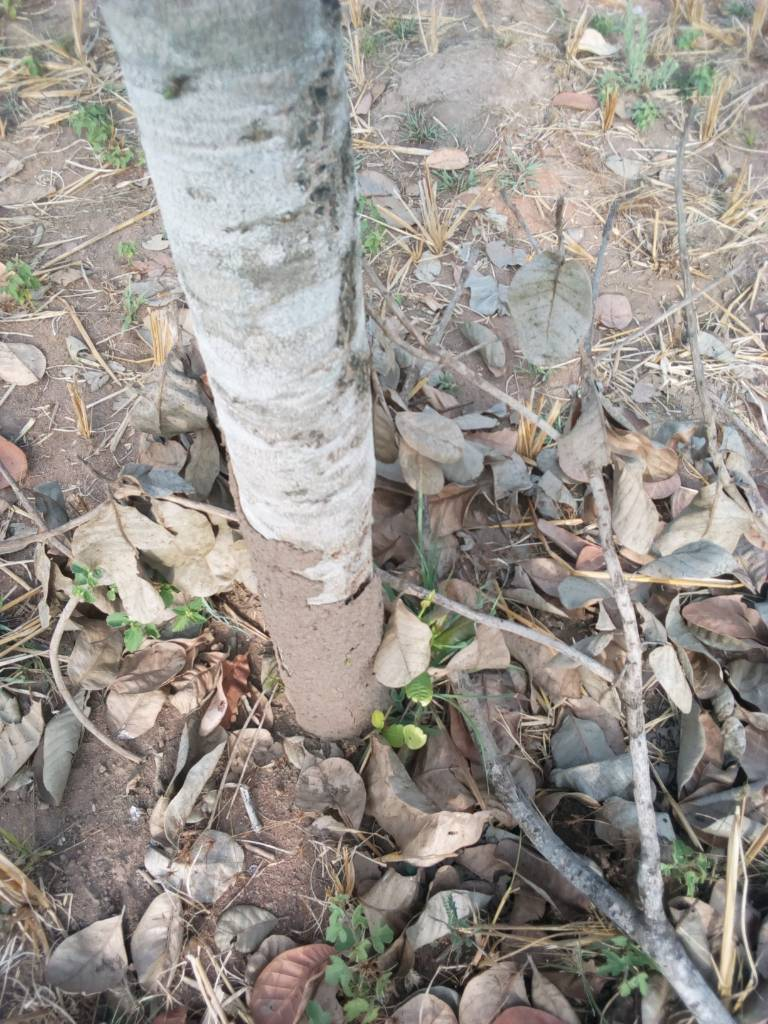Termites: (243, 527, 391, 733)
